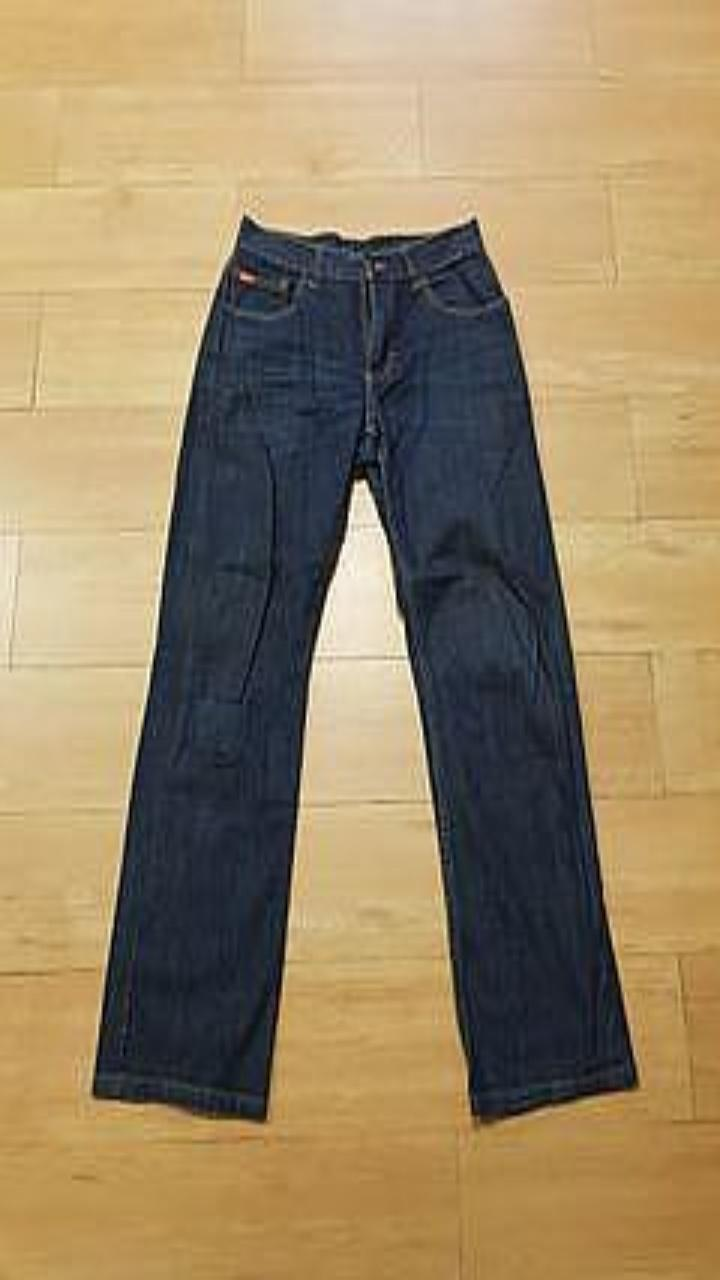Jeans: (92, 214, 637, 1119)
